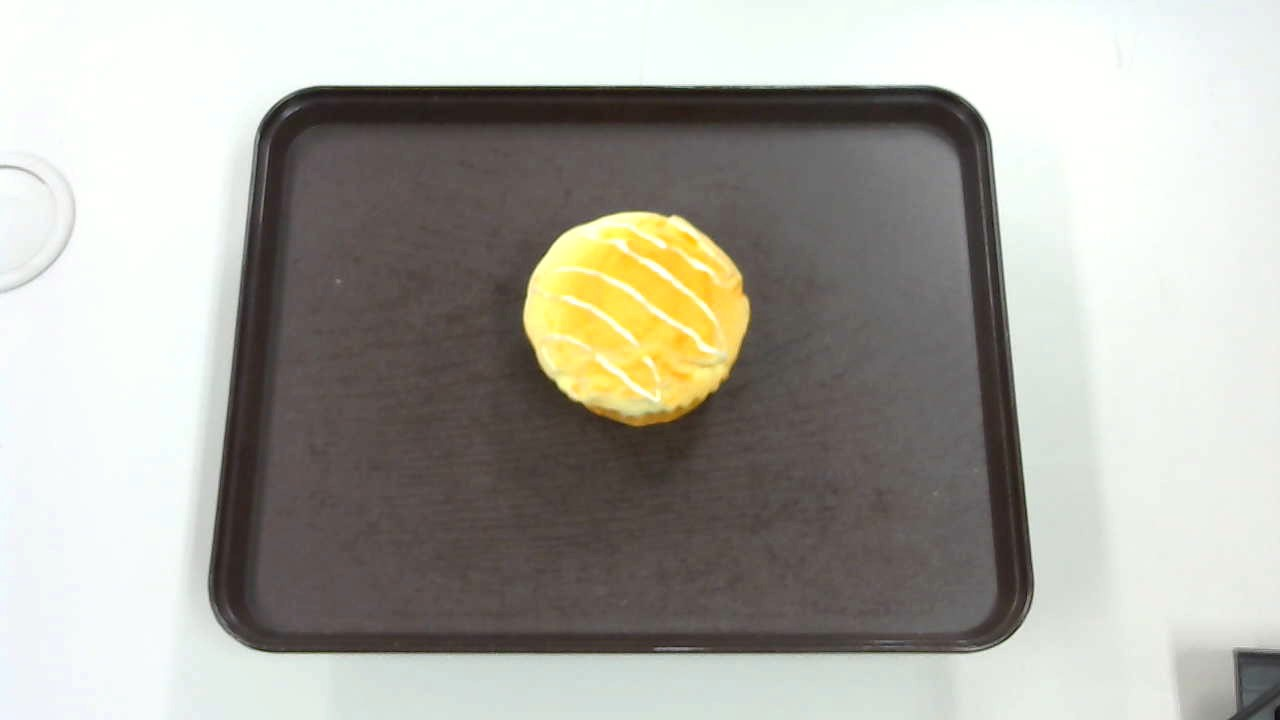cupcake: (523, 210, 750, 426)
